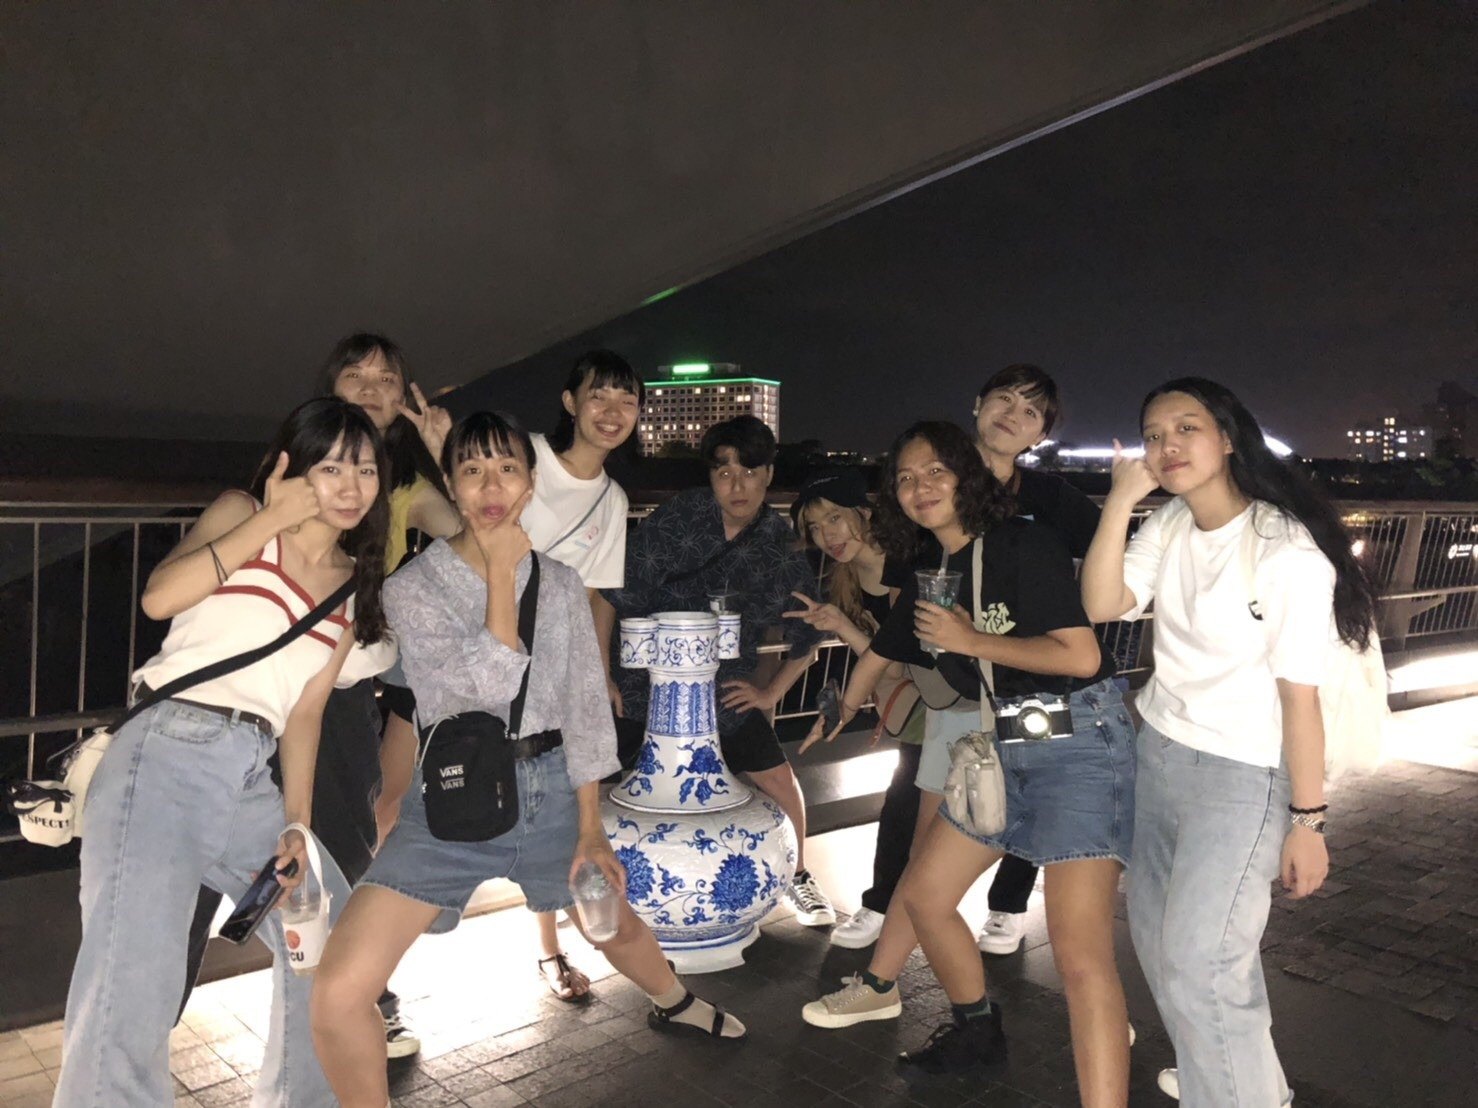people: (106, 394, 389, 1108), (863, 430, 1136, 1108), (1123, 375, 1333, 1108), (402, 413, 606, 1032), (646, 419, 827, 809), (515, 355, 640, 725), (804, 482, 961, 744), (954, 363, 1073, 613), (325, 332, 440, 582)
